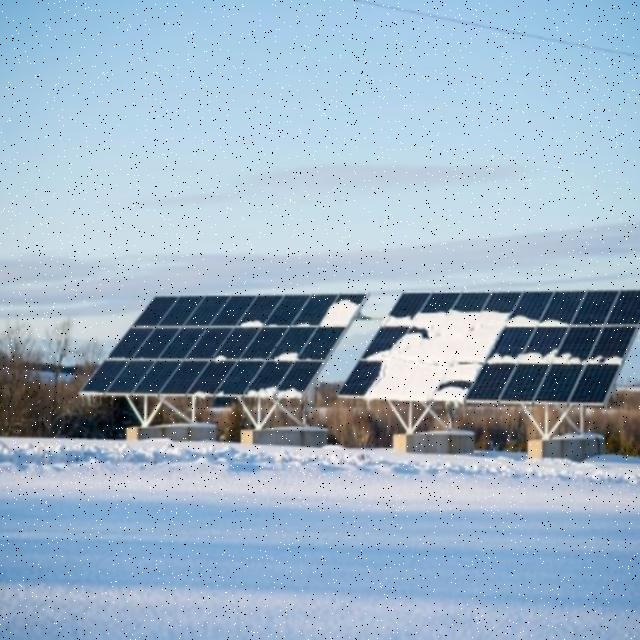snow covered: (373, 305, 514, 402), (318, 292, 364, 333)
